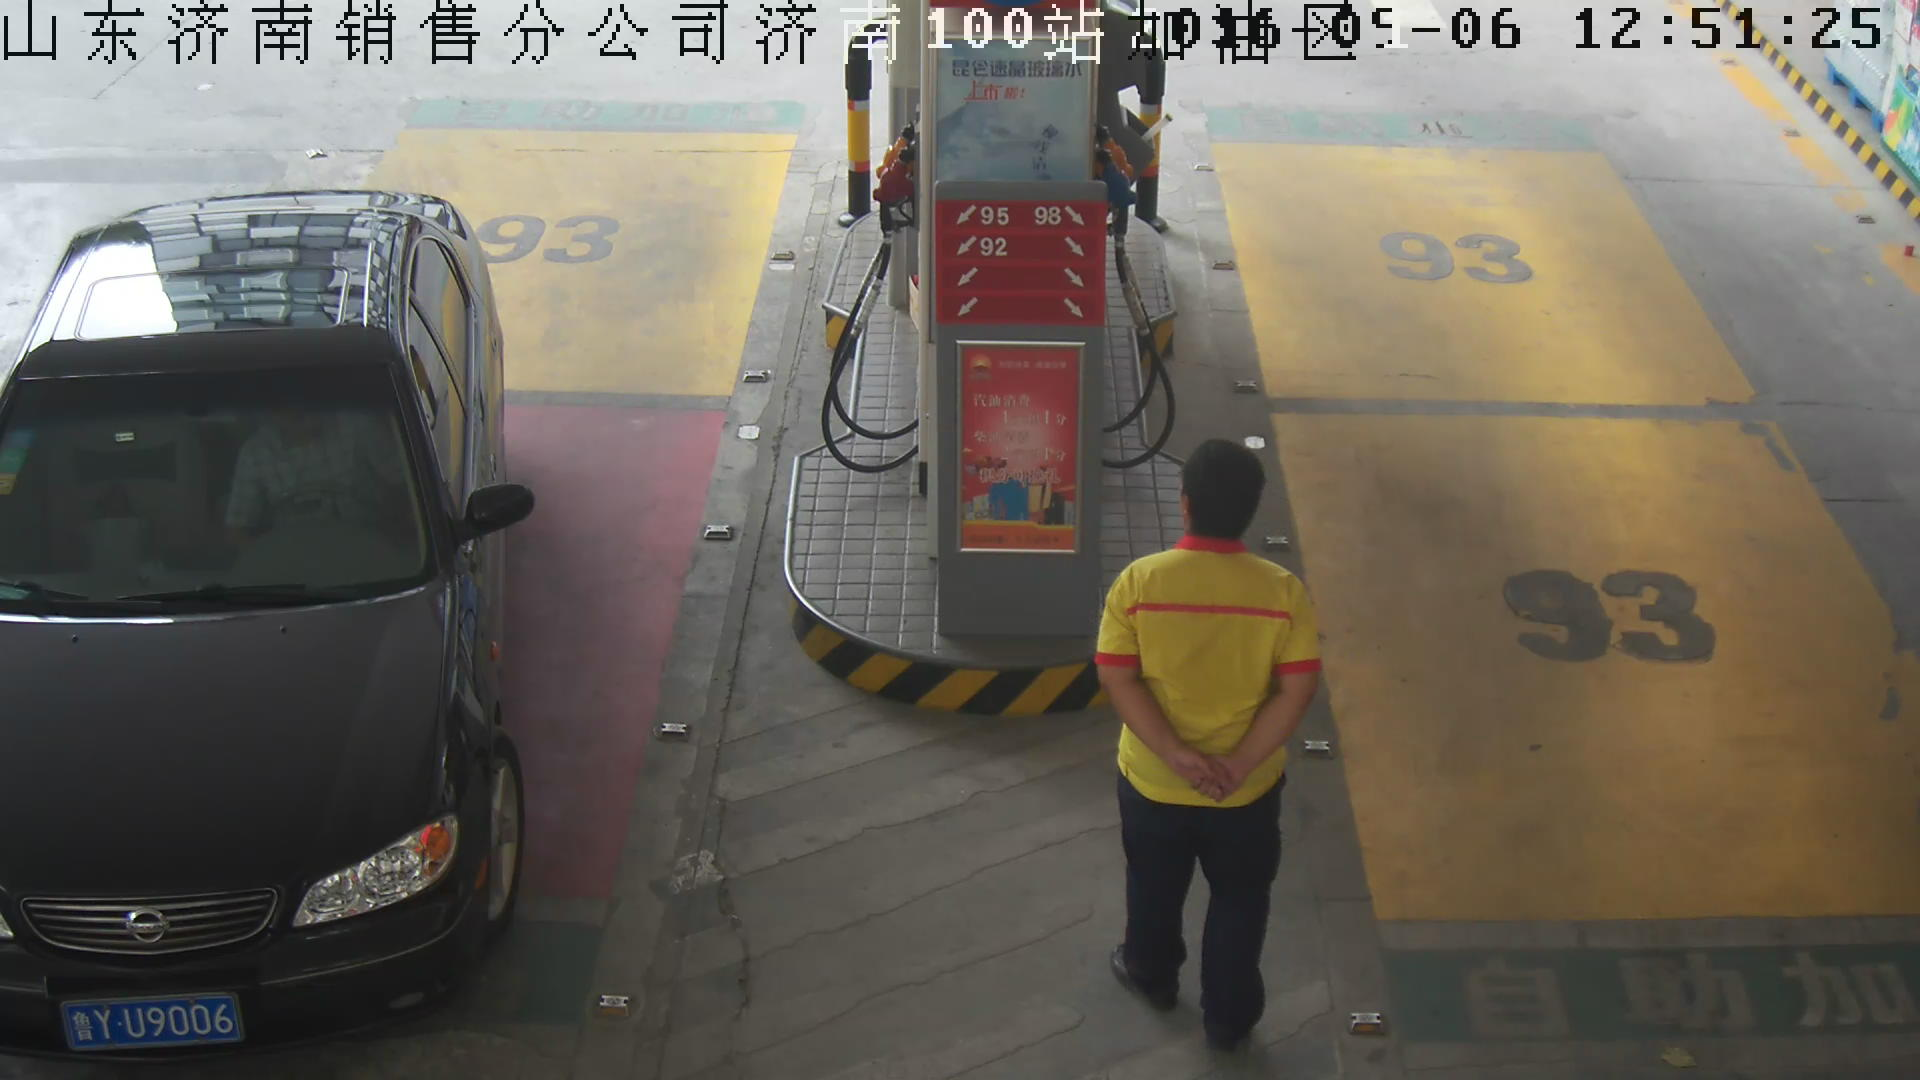blue: (61, 990, 247, 1054)
